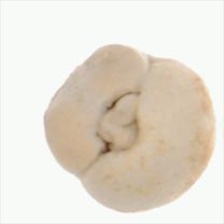L3: (96, 88, 142, 155)
L4: (45, 44, 216, 212)
